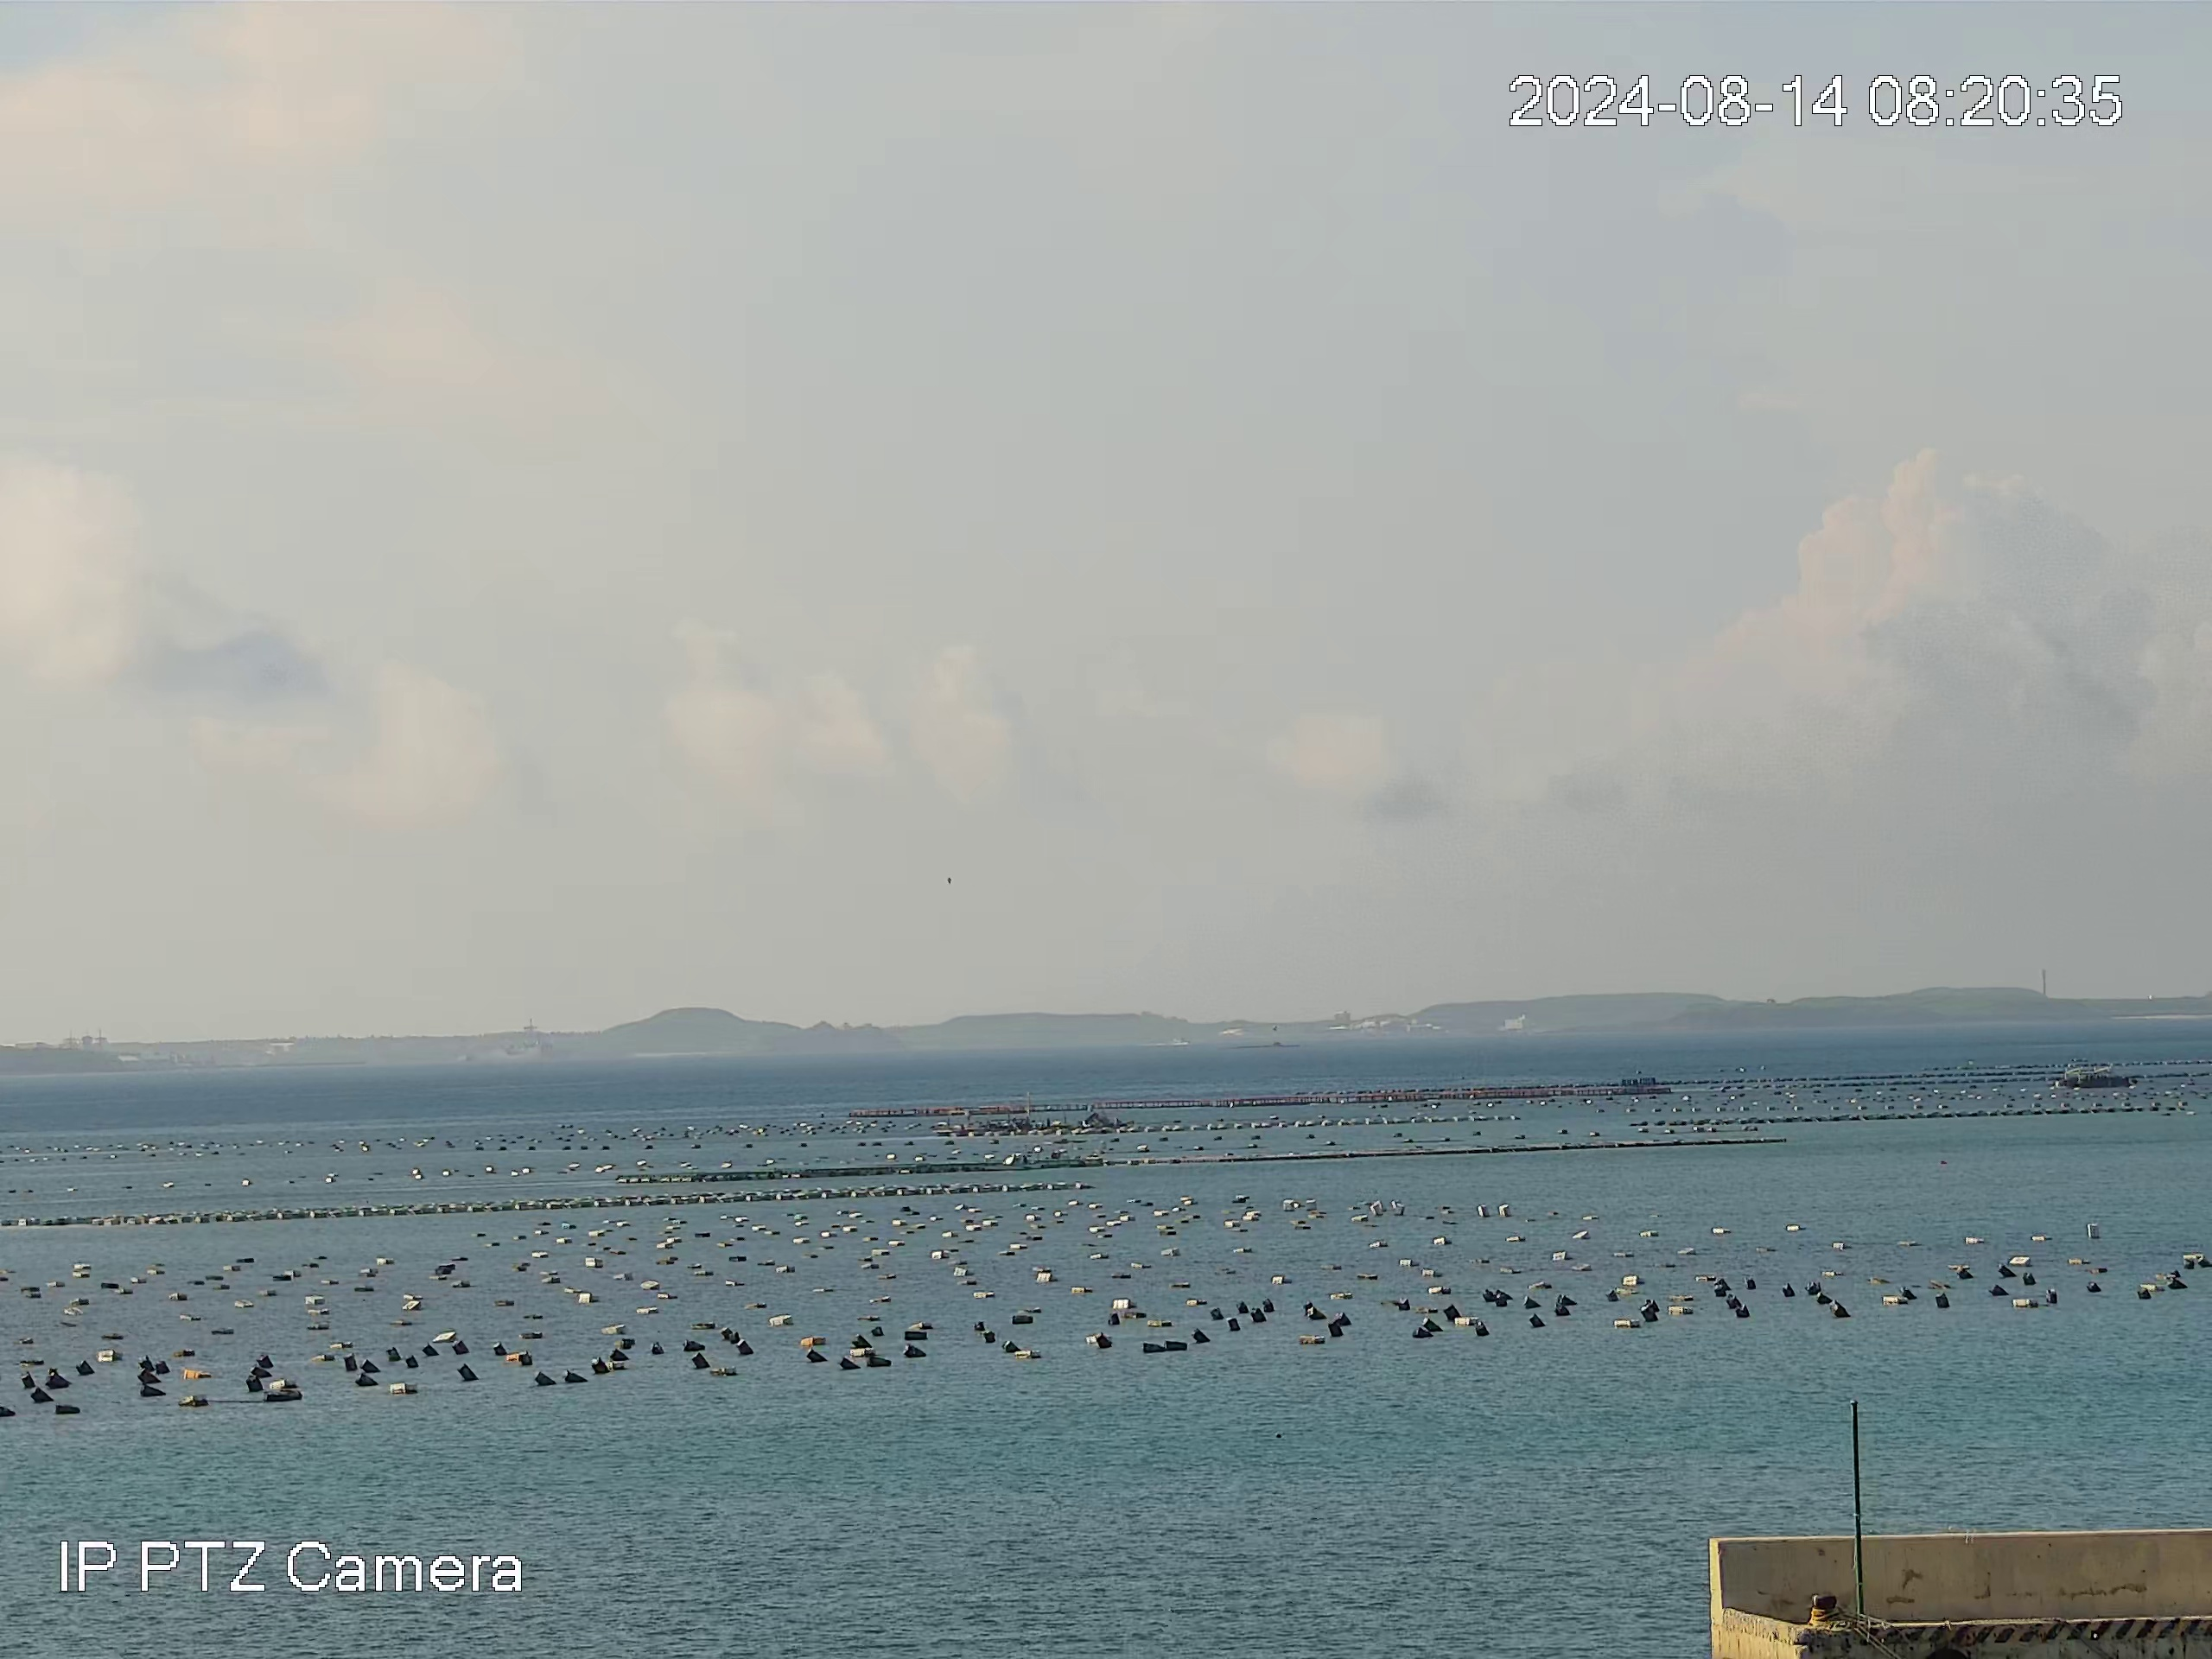boat: (2057, 1060, 2132, 1093)
